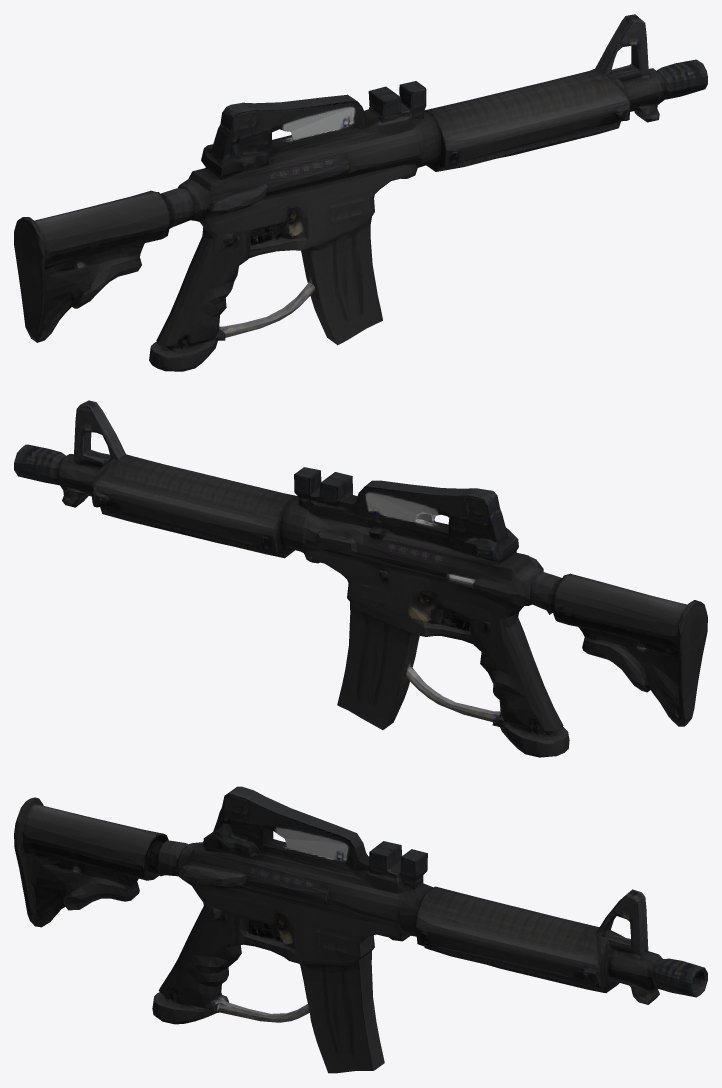
File: bravoone.glb
3 views of the same model, one above another, from view 1: azimuth 30°, elevation 25°; view 2: azimuth 150°, elevation 25°; view 3: azimuth 330°, elevation 25° (orthographic).
Parts seen in each view (by area): view 1: world; view 2: world; view 3: world.
Part boxes in pixels (<box>): world: <box>14,14,707,371</box>; world: <box>14,400,707,757</box>; world: <box>14,786,707,1073</box>.
Size of the model in its own units: 0.7002 by 0.2547 by 0.0707.
1 material, 1 textured.
